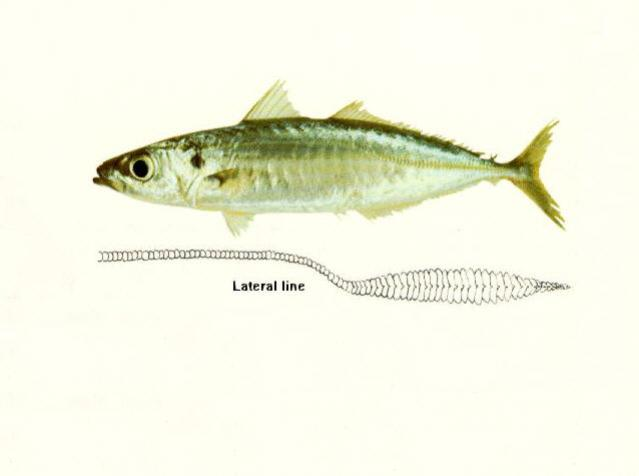Mulut: (78, 146, 122, 212)
Sirip Anal: (330, 190, 476, 226)
Sirip Dada: (207, 152, 273, 200)
Sirip Ekor: (504, 110, 586, 242)
Sirip Perut: (211, 204, 273, 242)
Sirip Punggung: (234, 69, 429, 146)
